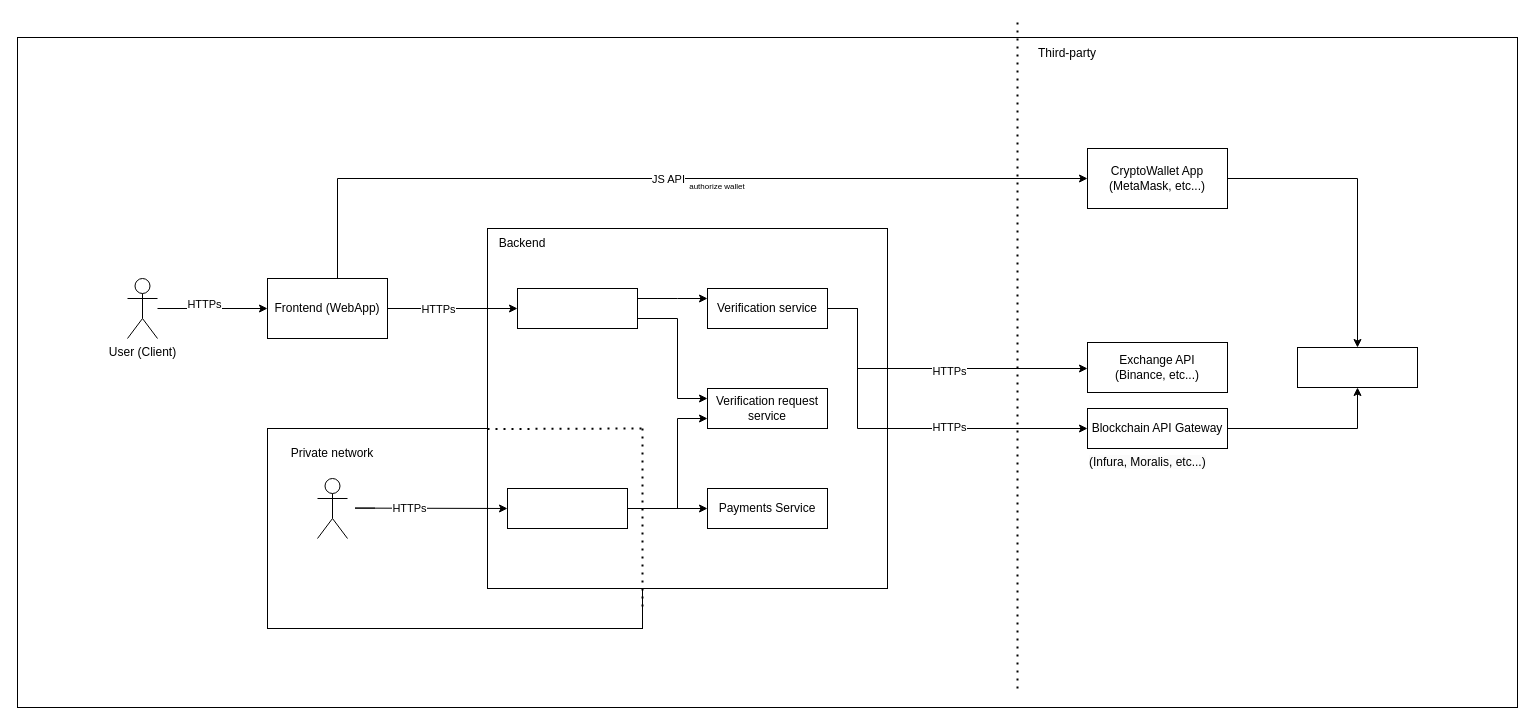
Some shapes in this 1535 by 725 pixel diagram are drawn without their labels. Each missing label, with the box of its shape:
Api Gateway (Internal): (506, 488, 628, 528)
Api Gateway (Public): (516, 288, 638, 328)
Blockchain Node API: (1296, 346, 1418, 388)
Third-party service: (316, 478, 348, 538)
